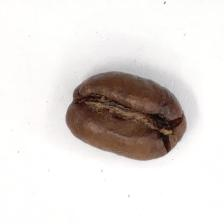NG: (73, 82, 177, 148)
